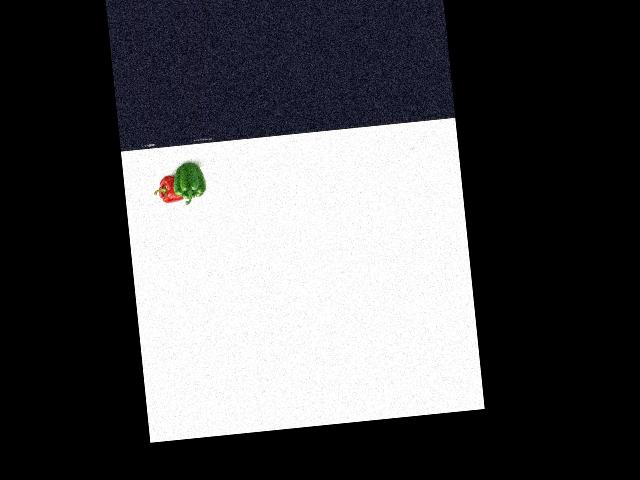bell_pepper: (152, 175, 185, 207)
